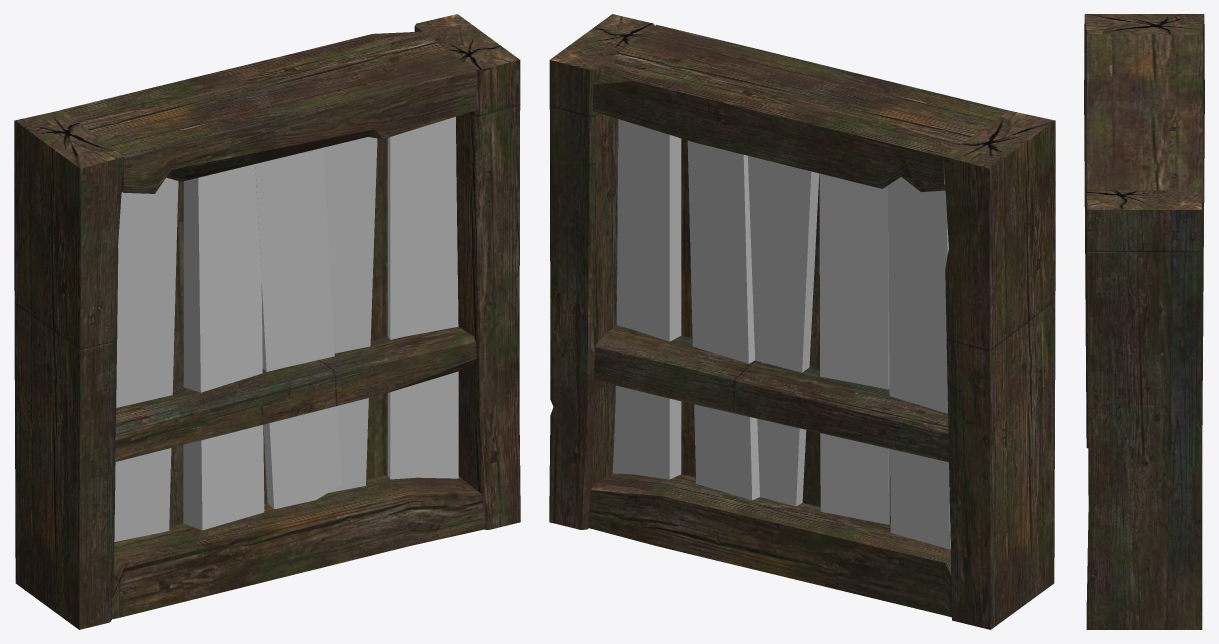
3 views of the same model, side by side, from view 1: azimuth 30°, elevation 25°; view 2: azimuth 150°, elevation 25°; view 3: azimuth 270°, elevation 25° (orthographic). The views are drawn at different scales.
Visible parts, largest first — view 1: SM_BB_T1_Wall_Med_LOD0; view 2: SM_BB_T1_Wall_Med_LOD0; view 3: SM_BB_T1_Wall_Med_LOD0.
Boxes of the visible parts, box(x1,y1,x2,y2) form: SM_BB_T1_Wall_Med_LOD0: box(14, 14, 520, 629); SM_BB_T1_Wall_Med_LOD0: box(549, 14, 1055, 629); SM_BB_T1_Wall_Med_LOD0: box(1084, 14, 1204, 629).
Bounding box in the file's own units: 1.5 × 1.5 × 0.3912.
